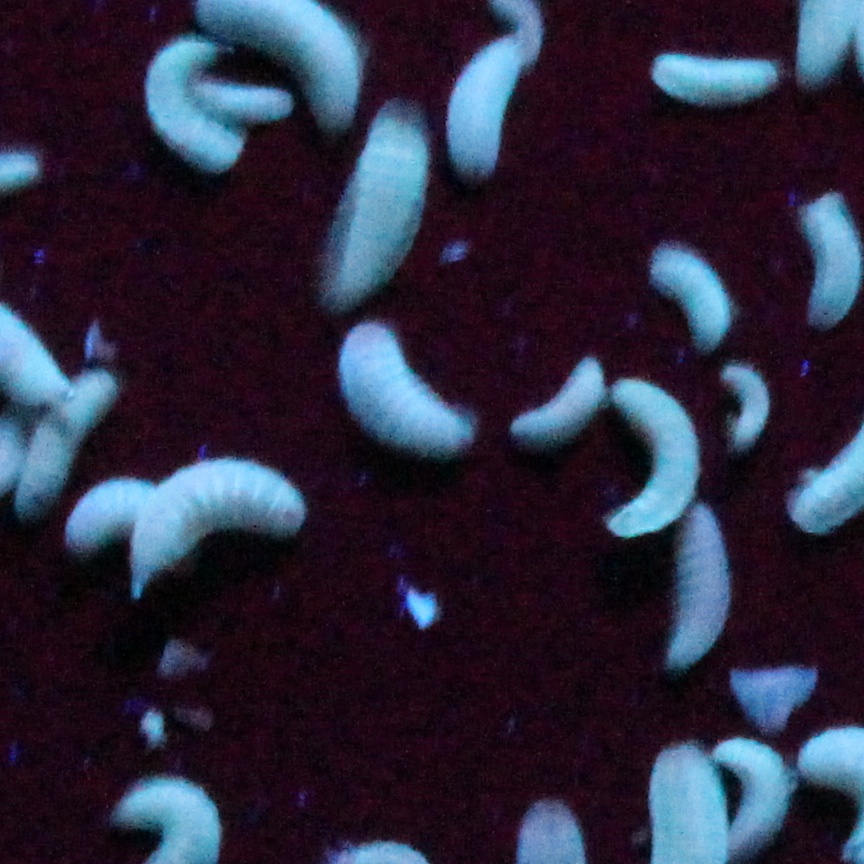larve: (124, 458, 306, 591), (319, 99, 433, 307), (337, 322, 476, 451), (10, 366, 118, 514), (606, 380, 697, 535), (143, 35, 229, 178), (645, 249, 739, 347), (674, 495, 726, 666), (454, 39, 518, 174), (514, 360, 606, 439), (808, 193, 862, 326), (654, 51, 779, 101), (183, 78, 299, 122), (722, 362, 768, 449)
